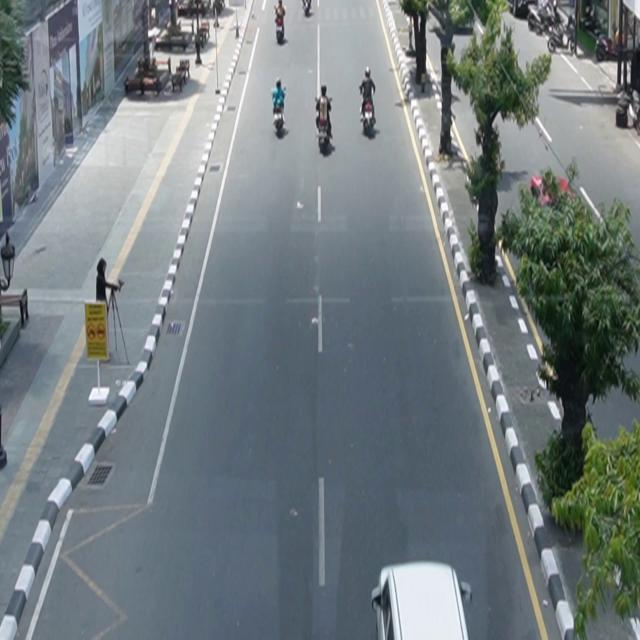car: (372, 561, 473, 640)
